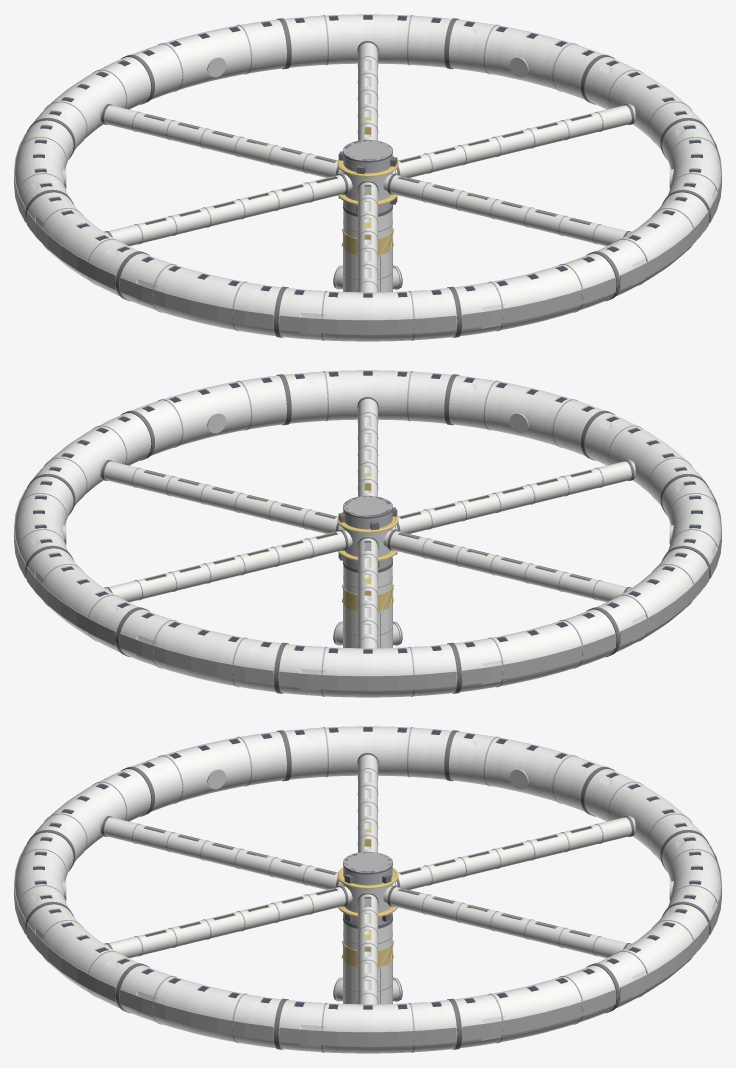
File: gravity_ring_assembly.glb
The picture shows the model from 3 angles, top to bottom: view 1: azimuth 30°, elevation 25°; view 2: azimuth 150°, elevation 25°; view 3: azimuth 270°, elevation 25°; orthographic projection.
Visible parts, largest first — view 1: segment_3_segment_hull, segment_2_segment_hull, segment_4_segment_hull, segment_9_segment_hull, segment_10_segment_hull, segment_8_segment_hull, spoke_1_tube_shell, spoke_3_tube_shell, spoke_4_tube_shell, spoke_6_tube_shell, segment_1_segment_hull, segment_5_segment_hull (+15 smaller); view 2: segment_11_segment_hull, segment_10_segment_hull, segment_12_segment_hull, segment_5_segment_hull, segment_6_segment_hull, segment_4_segment_hull, spoke_1_tube_shell, spoke_5_tube_shell, spoke_2_tube_shell, spoke_4_tube_shell, segment_1_segment_hull, segment_9_segment_hull (+15 smaller); view 3: segment_7_segment_hull, segment_6_segment_hull, segment_8_segment_hull, segment_1_segment_hull, segment_2_segment_hull, segment_12_segment_hull, spoke_3_tube_shell, spoke_5_tube_shell, spoke_2_tube_shell, spoke_6_tube_shell, segment_5_segment_hull, segment_9_segment_hull (+15 smaller).
Part boxes in pixels (x1,y1,x2,y2): segment_3_segment_hull: (284, 14, 451, 67); segment_2_segment_hull: (449, 19, 603, 99); segment_4_segment_hull: (132, 19, 286, 99); segment_9_segment_hull: (278, 288, 457, 341); segment_10_segment_hull: (454, 253, 616, 336); segment_8_segment_hull: (119, 253, 281, 336); spoke_1_tube_shell: (398, 105, 631, 177); spoke_3_tube_shell: (104, 105, 337, 177); spoke_4_tube_shell: (108, 175, 345, 246); spoke_6_tube_shell: (390, 175, 627, 246); segment_1_segment_hull: (584, 57, 701, 149); segment_5_segment_hull: (34, 57, 151, 149); segment_11_segment_hull: (284, 370, 451, 423); segment_10_segment_hull: (449, 375, 603, 455); segment_12_segment_hull: (132, 375, 286, 455); segment_5_segment_hull: (278, 644, 457, 697); segment_6_segment_hull: (454, 609, 616, 692); segment_4_segment_hull: (119, 609, 281, 692); spoke_1_tube_shell: (104, 461, 337, 533); spoke_5_tube_shell: (398, 461, 631, 533); spoke_2_tube_shell: (108, 531, 345, 602); spoke_4_tube_shell: (390, 531, 627, 602); segment_1_segment_hull: (34, 413, 151, 505); segment_9_segment_hull: (584, 413, 701, 505); segment_7_segment_hull: (284, 726, 451, 779); segment_6_segment_hull: (449, 731, 603, 811); segment_8_segment_hull: (132, 731, 286, 811); segment_1_segment_hull: (278, 1000, 457, 1053); segment_2_segment_hull: (454, 965, 616, 1048); segment_12_segment_hull: (119, 965, 281, 1048); spoke_3_tube_shell: (398, 817, 631, 889); spoke_5_tube_shell: (104, 817, 337, 889); spoke_2_tube_shell: (390, 887, 627, 958); spoke_6_tube_shell: (108, 887, 345, 958); segment_5_segment_hull: (584, 769, 701, 861); segment_9_segment_hull: (34, 769, 151, 861).
Size of the model in its own units: 53.81 by 13.6 by 53.81.
